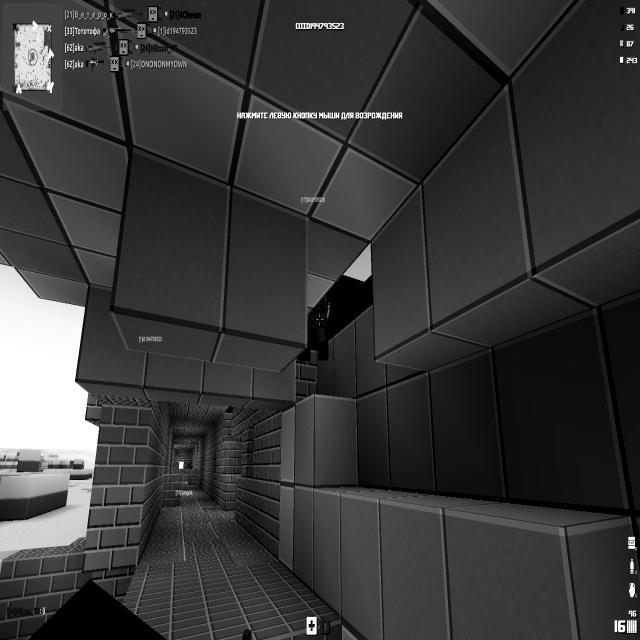Head: (28, 578, 165, 639), (242, 628, 252, 640)
Player: (297, 267, 332, 373)
